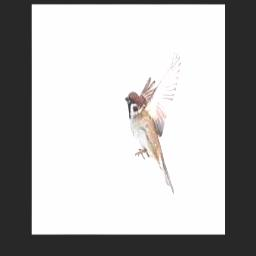Sparrow: (125, 49, 183, 194)
